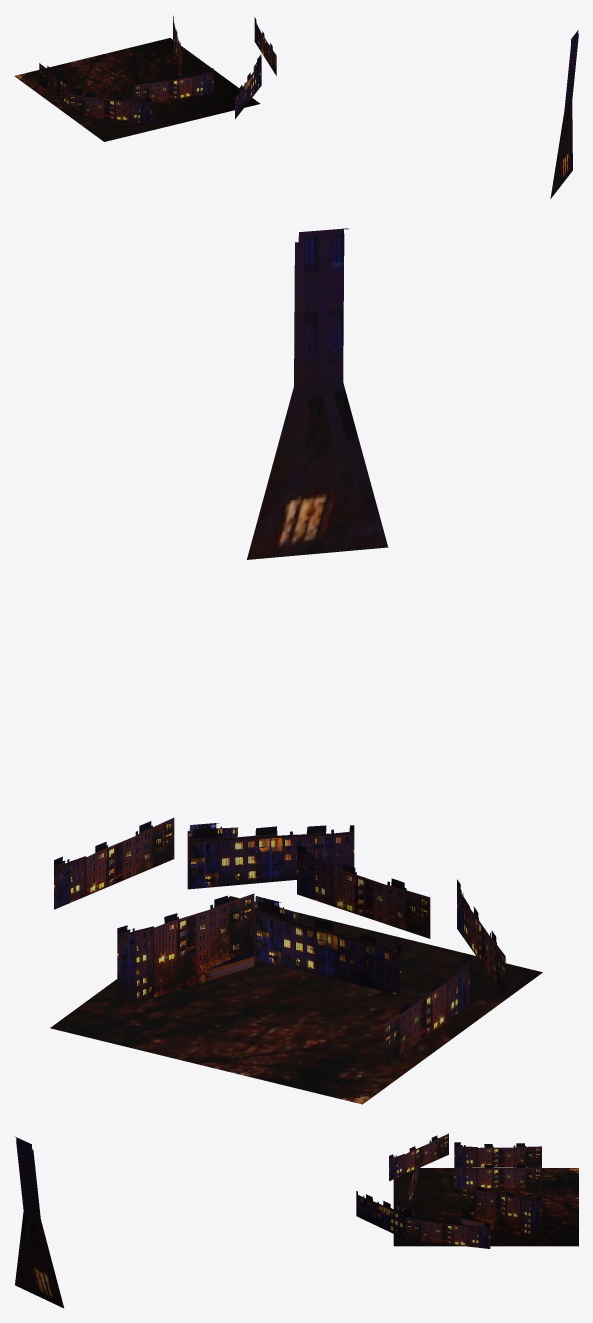
Rendered from SkyBoxBuildings.gltf.
3 views of the same model, one above another, from view 1: azimuth 30°, elevation 25°; view 2: azimuth 150°, elevation 25°; view 3: azimuth 270°, elevation 25° (orthographic). The views are drawn at different scales.
Visible parts, largest first — view 1: Map.001; view 2: Map.001; view 3: Map.001.
Part boxes in pixels (x1,y1,x2,y2): Map.001: (14, 15, 578, 198); Map.001: (50, 228, 542, 1104); Map.001: (15, 1133, 578, 1308).
Size of the model in its own units: 55.57 by 28.48 by 83.59.
Materials: 1 (1 with a texture image).
